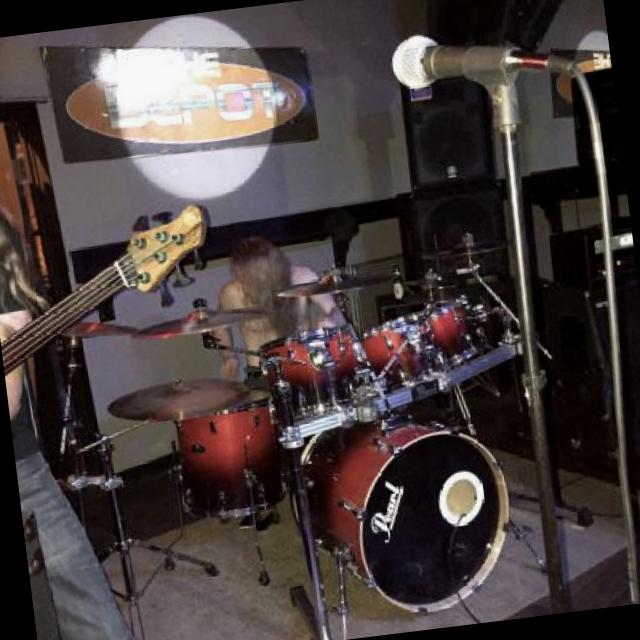Person: (0, 169, 152, 640), (203, 224, 376, 530)
